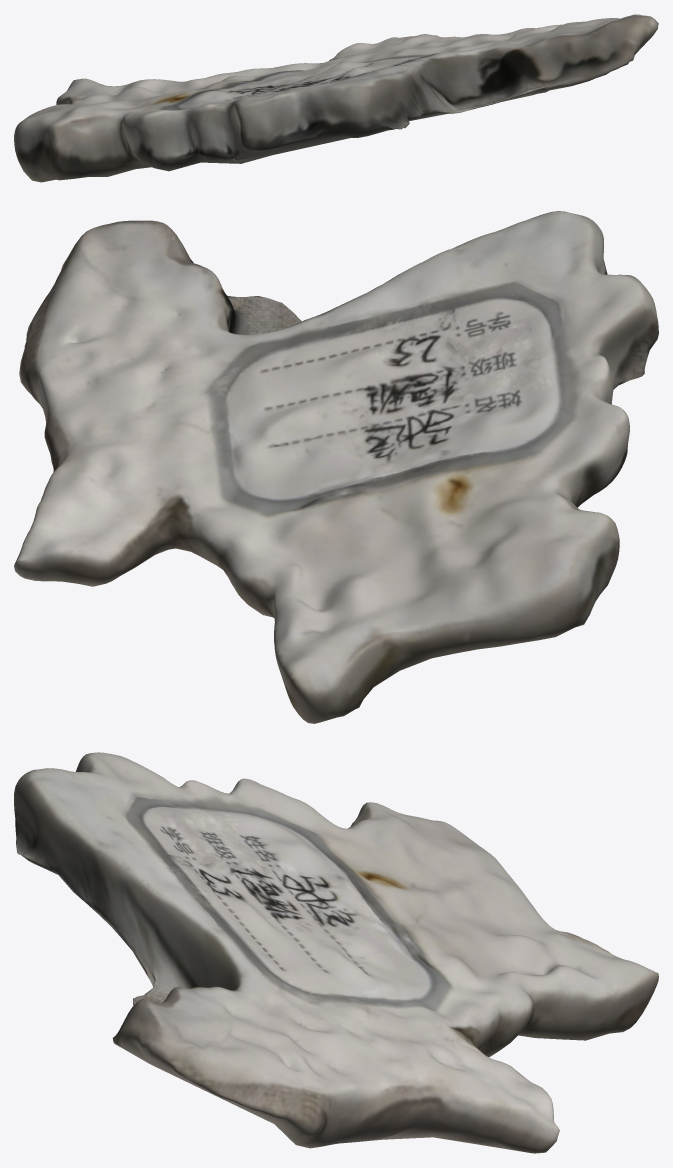
The picture shows the model from 3 angles, top to bottom: view 1: azimuth 30°, elevation 25°; view 2: azimuth 150°, elevation 25°; view 3: azimuth 270°, elevation 25°; orthographic projection. The views are drawn at different scales.
Bounding box in the file's own units: 0.5187 × 0.216 × 0.4546.
1 material, 1 textured.
